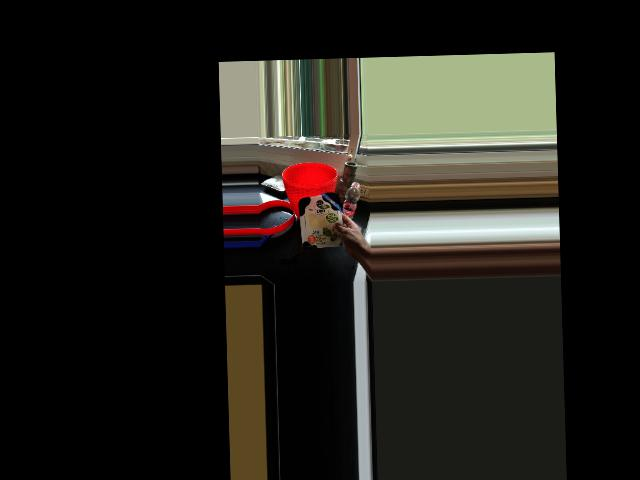cheese: (298, 191, 353, 244)
